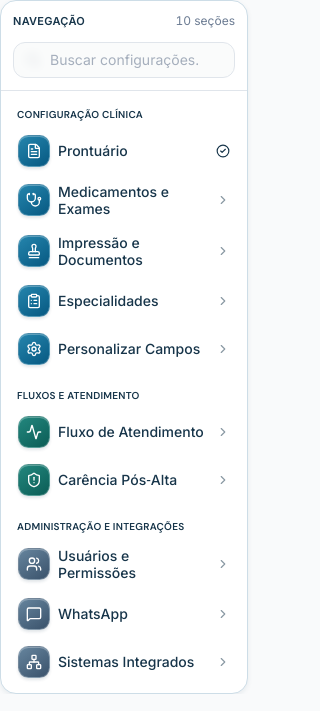
Scenario: homologação DOM das seções de configuração › limita master local a dez seções e não revela as globais na busca
In the field labelled "Buscar configurações": (124, 60) top-left (13, 42), bottom-right (235, 78), type "SIGTAP"
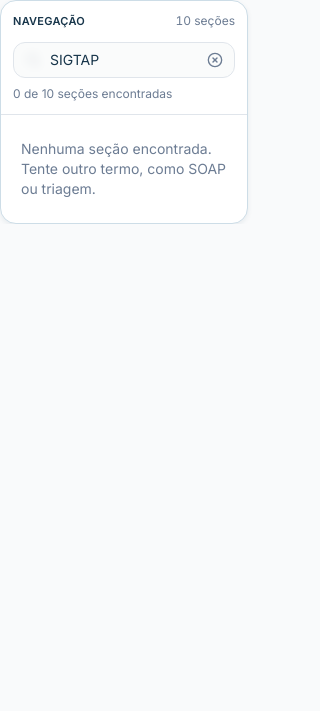
Expected: the message shows "0 de 10", top-left (13, 86), bottom-right (172, 100)
Click the button named "Limpar busca": click(215, 60) top-left (203, 48), bottom-right (227, 72)
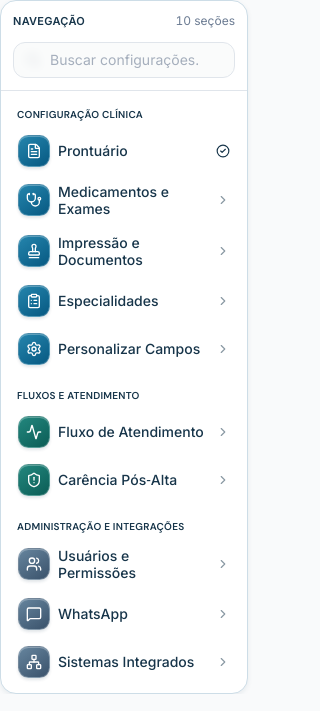
Expected: the number of buttons is 10
